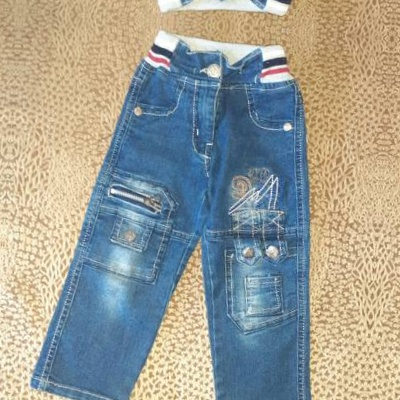Pants: (18, 22, 350, 400), (48, 0, 380, 26)
